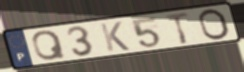3: (65, 24, 97, 58)
5: (129, 15, 164, 49)
K: (98, 20, 132, 53)
O: (197, 8, 232, 42)
Q: (31, 29, 68, 62)
T: (163, 11, 192, 46)
